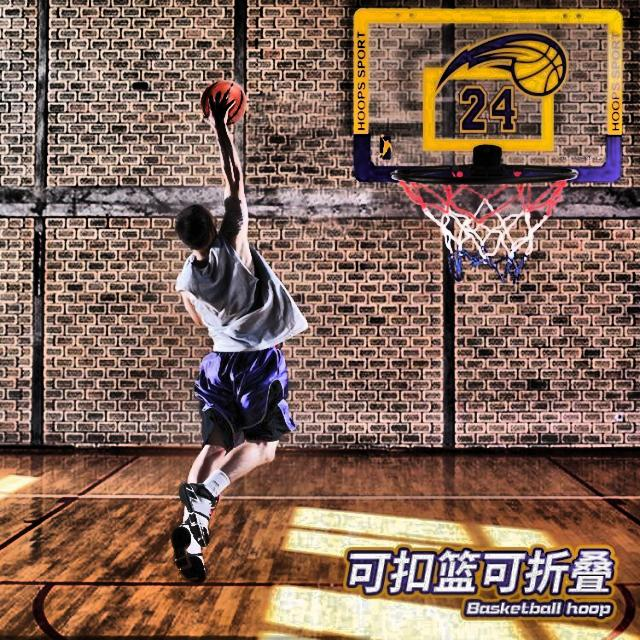rim: (394, 166, 581, 285)
